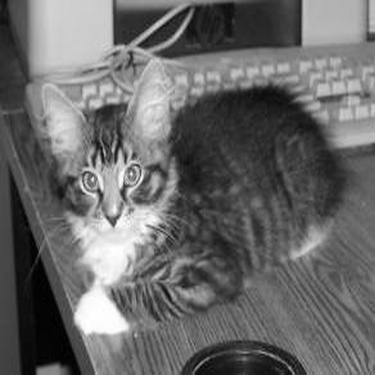cat: (15, 22, 340, 319)
